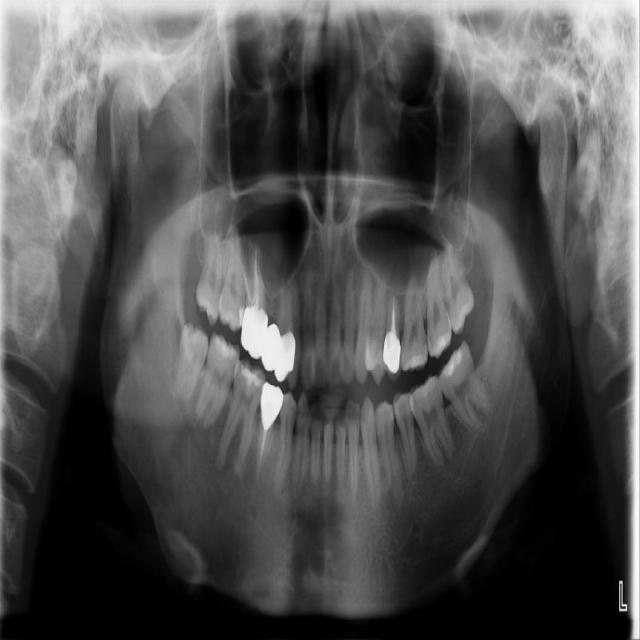3M ESPE Implant: (196, 222, 222, 326)
52: (223, 298, 312, 385), (427, 338, 489, 405), (194, 330, 251, 386), (223, 354, 272, 409), (397, 332, 432, 374), (425, 312, 453, 359), (218, 287, 246, 333), (259, 381, 283, 431), (382, 331, 404, 382)
73: (233, 242, 272, 320), (253, 414, 274, 480), (384, 293, 400, 343), (618, 613, 624, 622)
BioHorizons Implant: (425, 245, 453, 360)
BioLife Implant: (438, 231, 478, 336)
Blue Sky Bio Implant: (427, 338, 497, 438)
Caries: (215, 227, 253, 333)
Implant: (193, 332, 245, 432)
Keystone Dental Implant: (171, 321, 212, 402)
